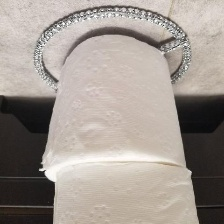tissue: (35, 29, 193, 189), (47, 156, 205, 224)
